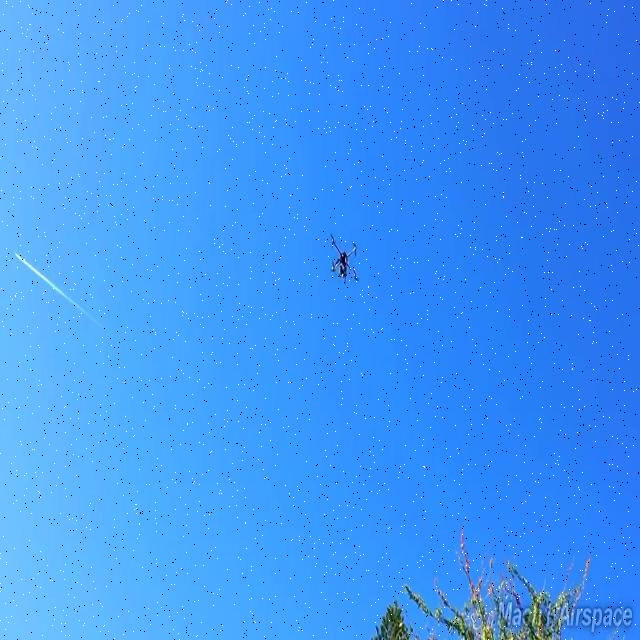UAV: (331, 234, 358, 284)
